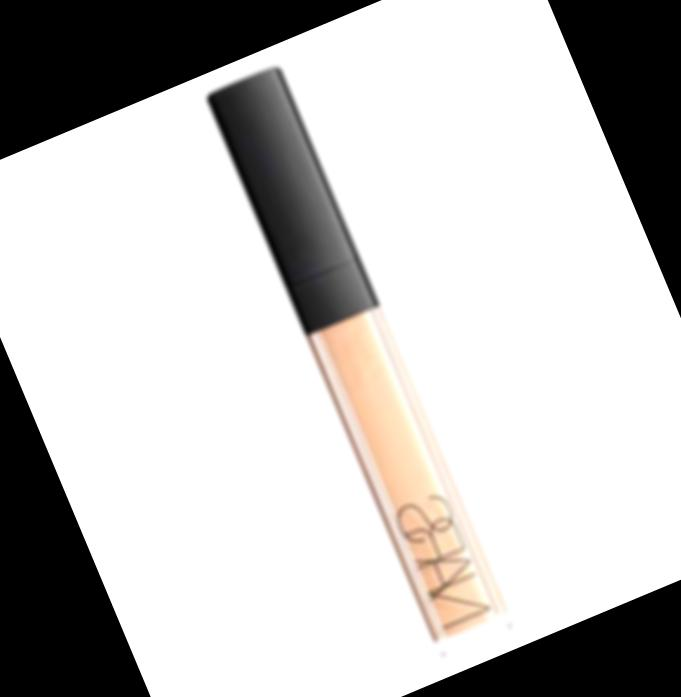cosmetic: (202, 65, 515, 663)
